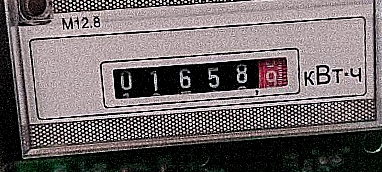0: (118, 68, 133, 91)
1: (148, 68, 160, 91)
5: (205, 64, 221, 88)
6: (176, 66, 192, 89)
8: (233, 60, 249, 84)
9: (261, 67, 277, 89)
screen: (93, 37, 309, 116)
